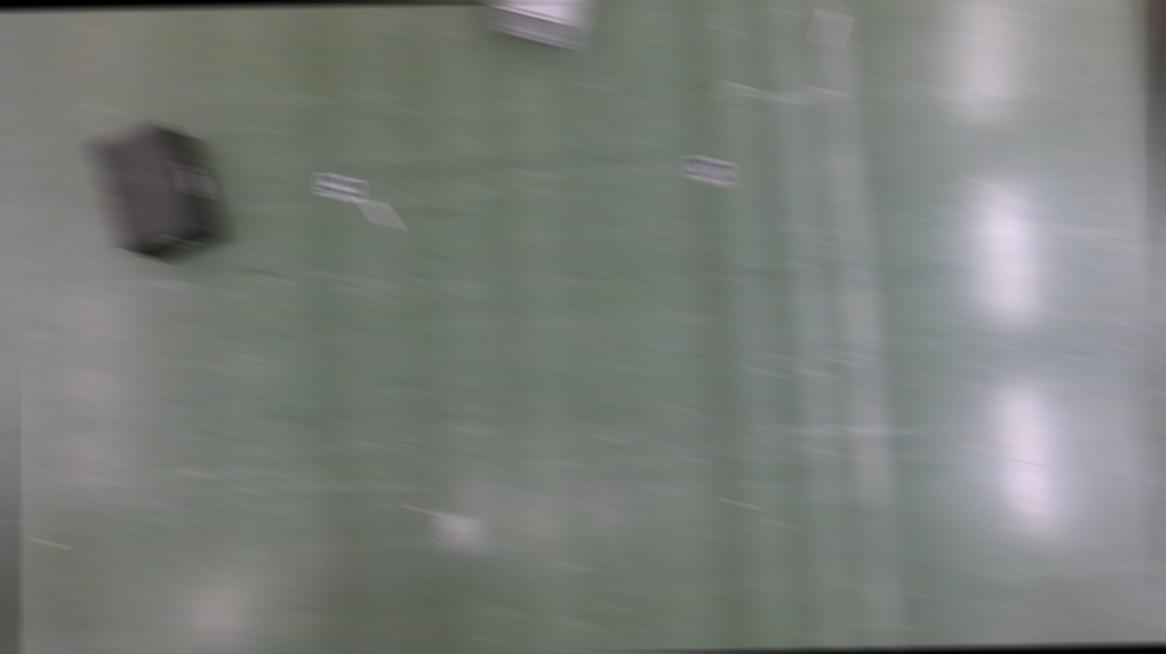probes: (362, 198, 393, 232), (818, 9, 840, 49)
rako: (89, 122, 227, 266), (487, 0, 587, 51)
